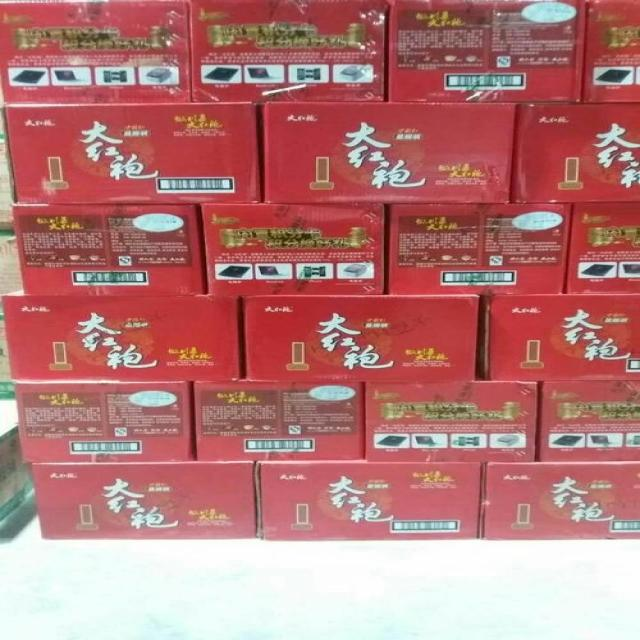box: (6, 102, 262, 203), (262, 102, 515, 203), (0, 290, 241, 382), (0, 0, 194, 106), (237, 295, 478, 380), (188, 0, 387, 102), (387, 0, 582, 102), (255, 460, 482, 540), (29, 462, 257, 541), (198, 202, 389, 295), (384, 203, 573, 295), (13, 203, 202, 295), (362, 380, 539, 463), (478, 293, 639, 382), (12, 382, 191, 462), (191, 380, 362, 460), (512, 102, 639, 203), (479, 462, 639, 538), (535, 379, 639, 461), (565, 203, 639, 293), (580, 0, 639, 104)
